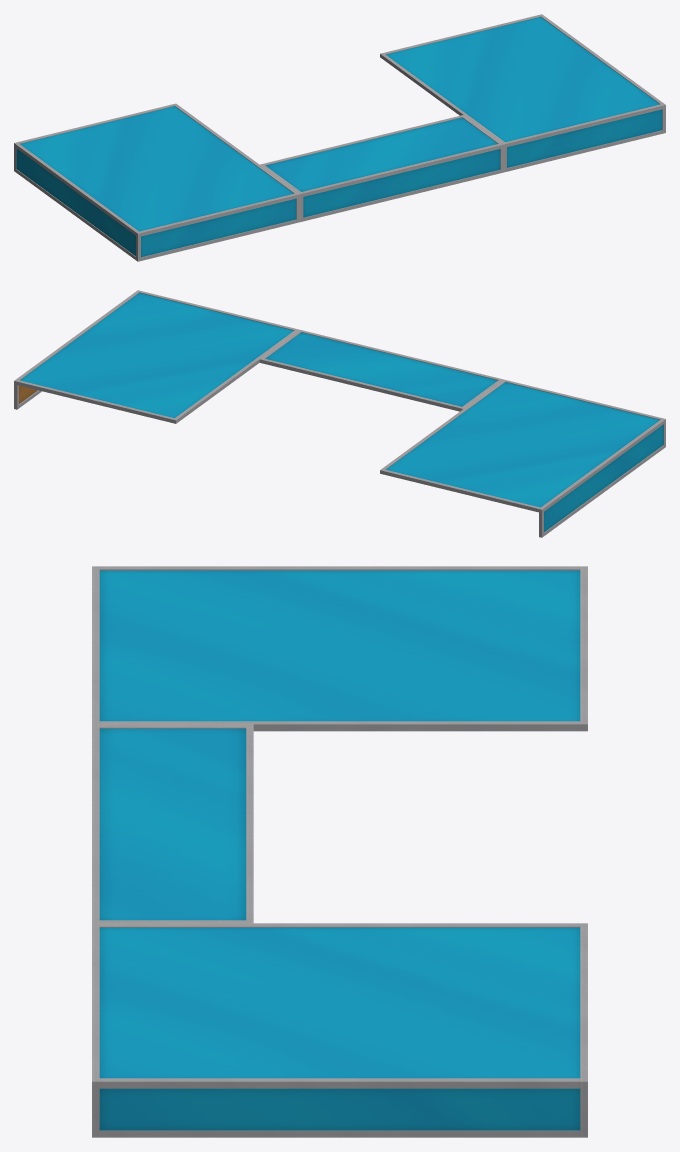
File: jsf_2P_s02_c02_t02_DX.fbx
The picture shows the model from 3 angles, top to bottom: view 1: azimuth 30°, elevation 25°; view 2: azimuth 150°, elevation 25°; view 3: azimuth 270°, elevation 25°; orthographic projection. The views are drawn at different scales.
Visible parts, largest first — view 1: jsf_2P_s02_c02_t02_DX; view 2: jsf_2P_s02_c02_t02_DX; view 3: jsf_2P_s02_c02_t02_DX.
Part boxes in pixels (bbox=[...]): jsf_2P_s02_c02_t02_DX: bbox=[14, 14, 665, 261]; jsf_2P_s02_c02_t02_DX: bbox=[14, 290, 665, 537]; jsf_2P_s02_c02_t02_DX: bbox=[92, 566, 587, 1137].
Size of the model in its own units: 246 by 12.51 by 100.
